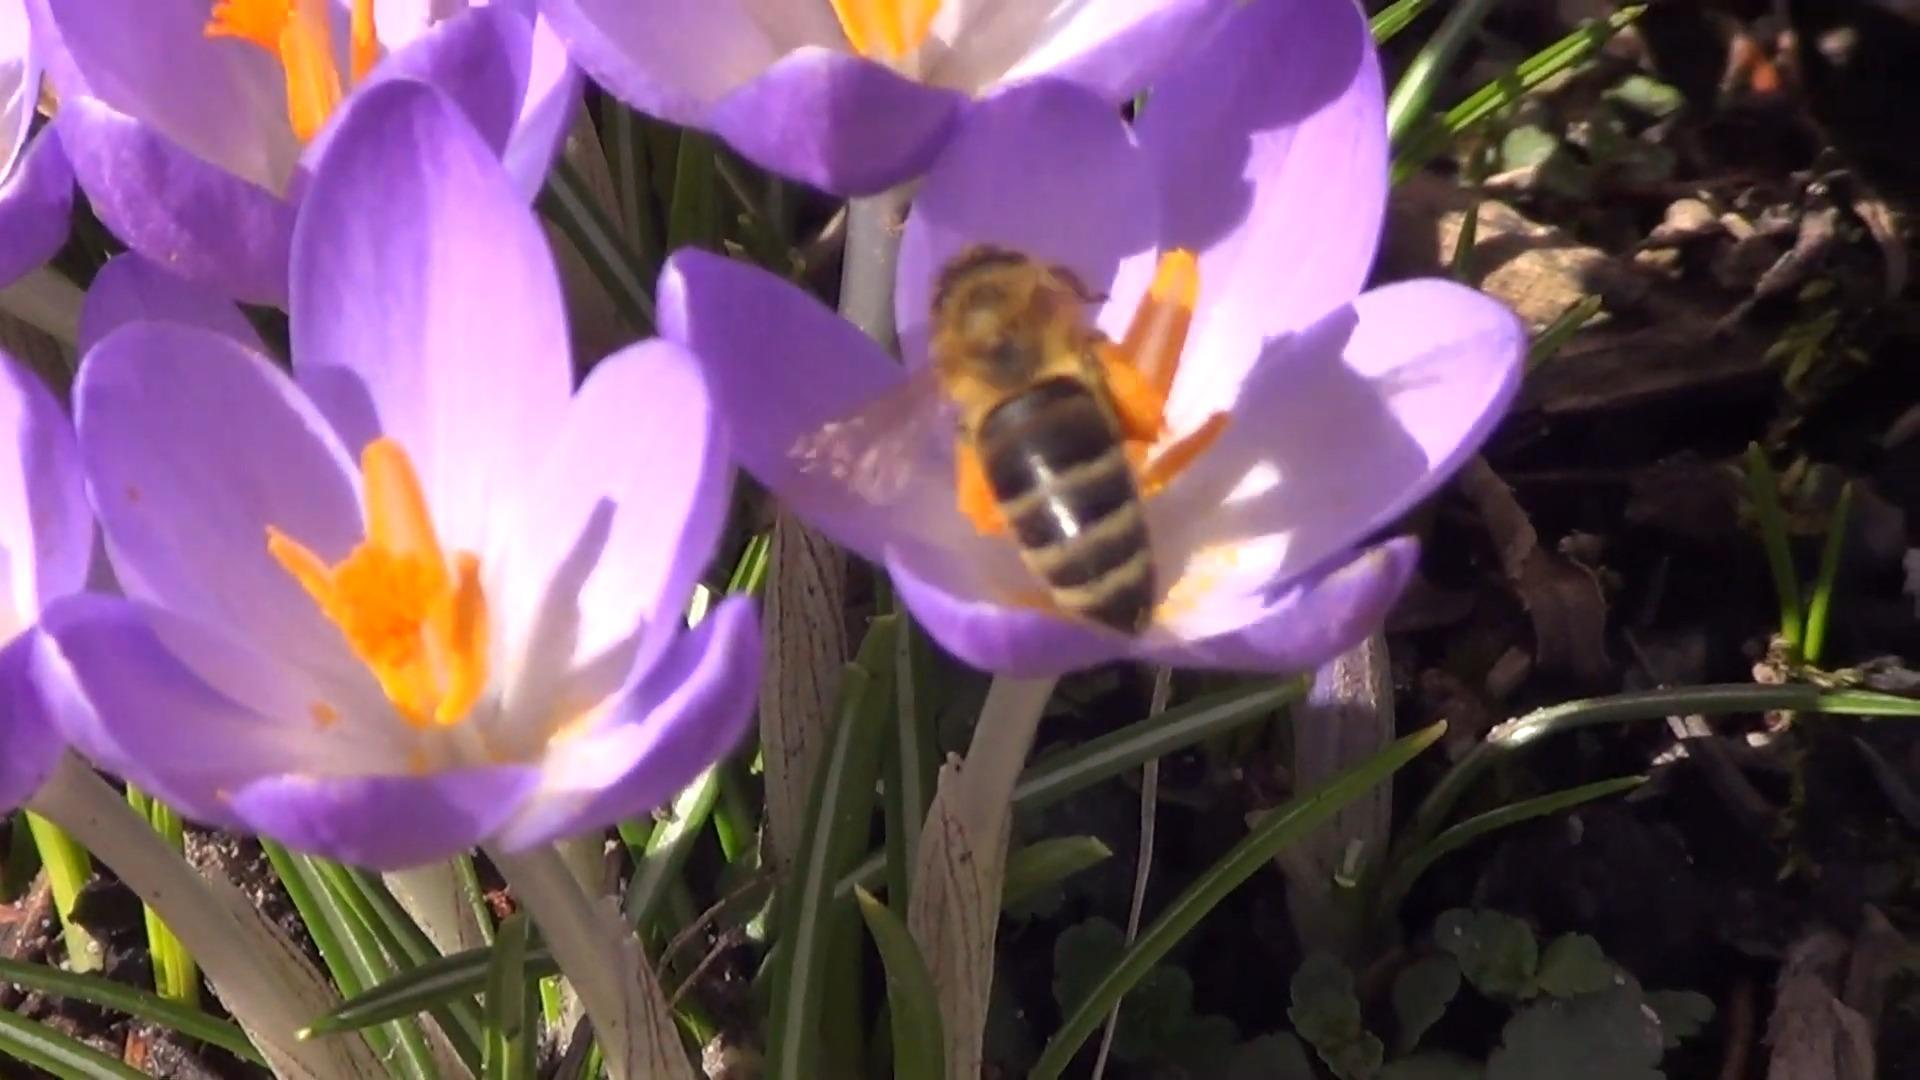pollenbee: (932, 249, 1163, 637)
